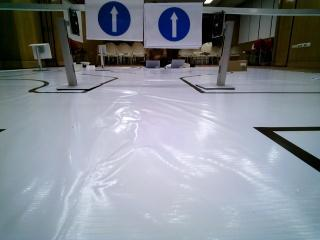straight: (146, 3, 201, 46), (86, 1, 142, 41)
